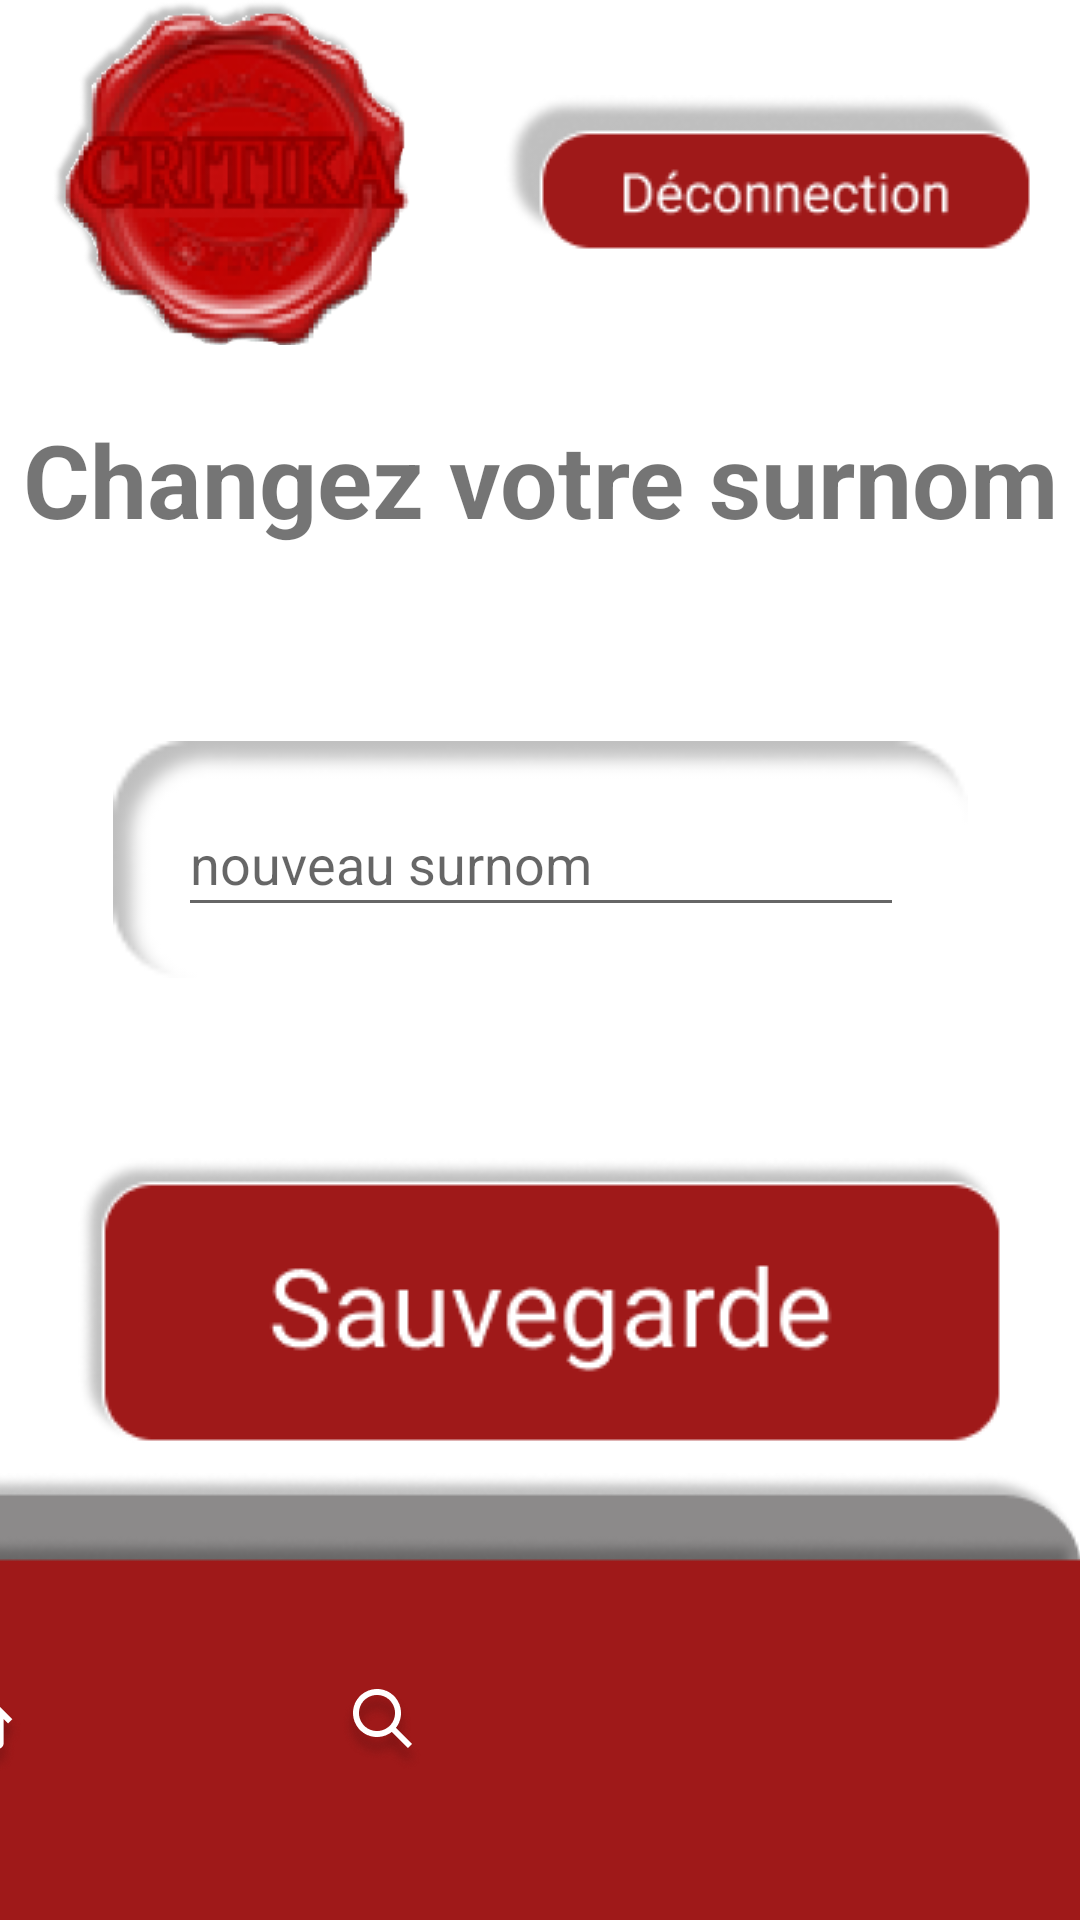

Where to tap for icons on this 1080px×1920px app screen, as point (x, y):
search: point (382, 1718)
